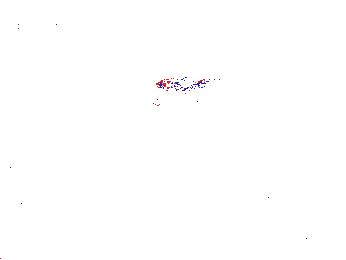red belly glassfish: (155, 76, 206, 94), (150, 96, 162, 114)
redtail glassfish: (1, 2, 70, 39)
